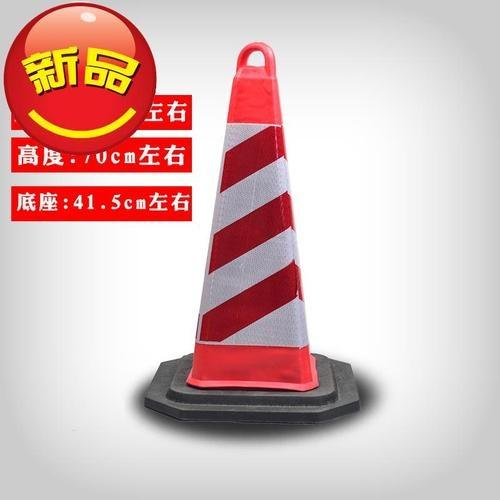cone_barrel: (166, 49, 339, 410)
